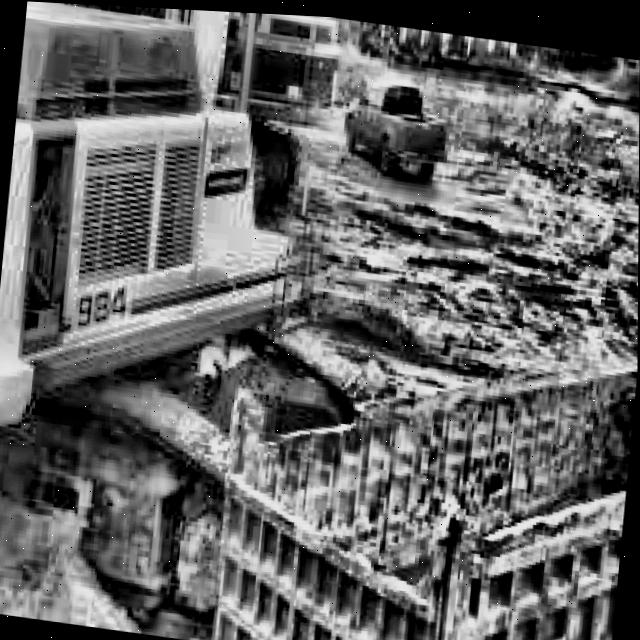dump_truck: (202, 164, 639, 640)
excavator: (0, 0, 541, 640)
